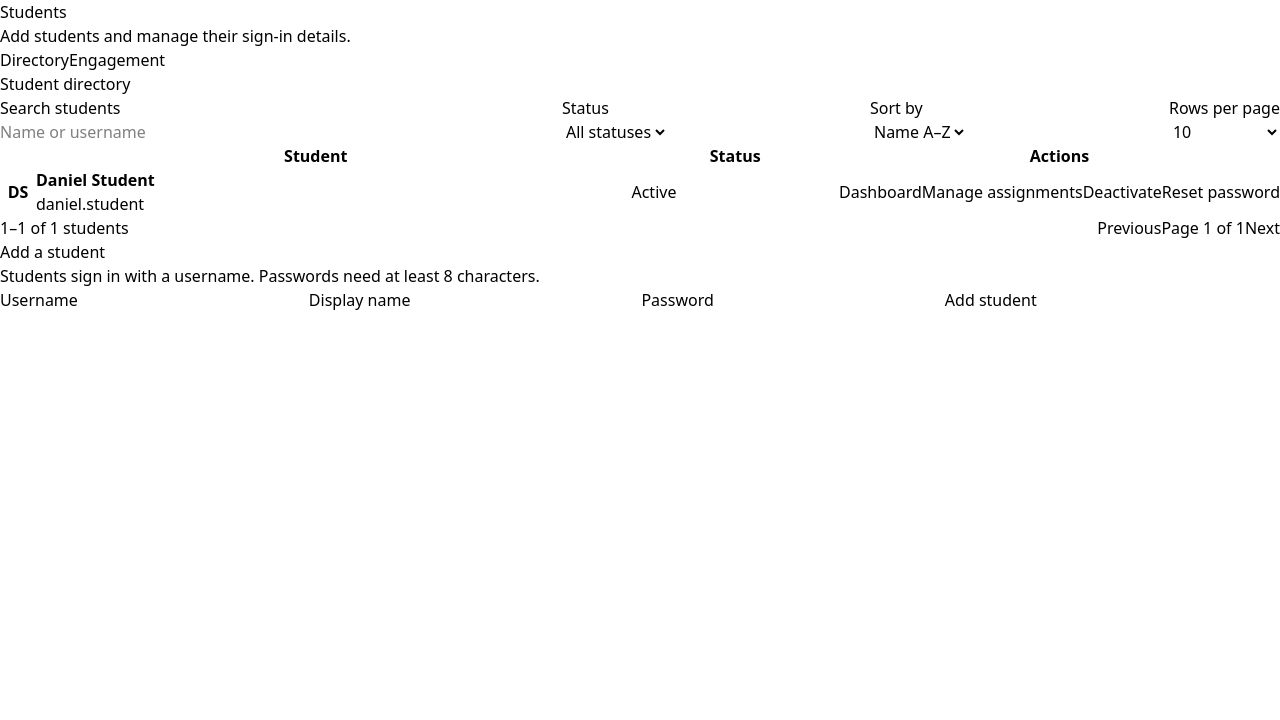
Test: Coach directory pages › confirms student account state change from active=true
Click the button "Deactivate" at coordinates (1122, 192), box [1083,180,1162,204]
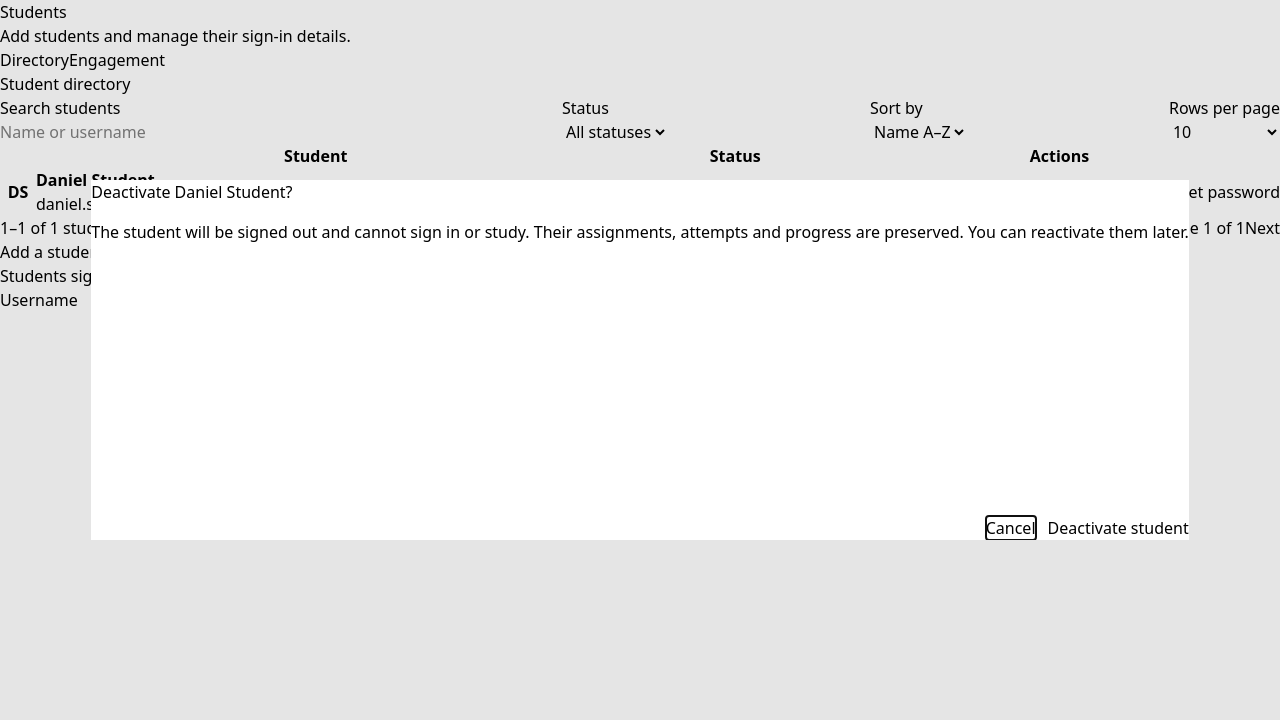
Click the button "Deactivate student" at coordinates (1118, 528), box [1048,516,1189,540]
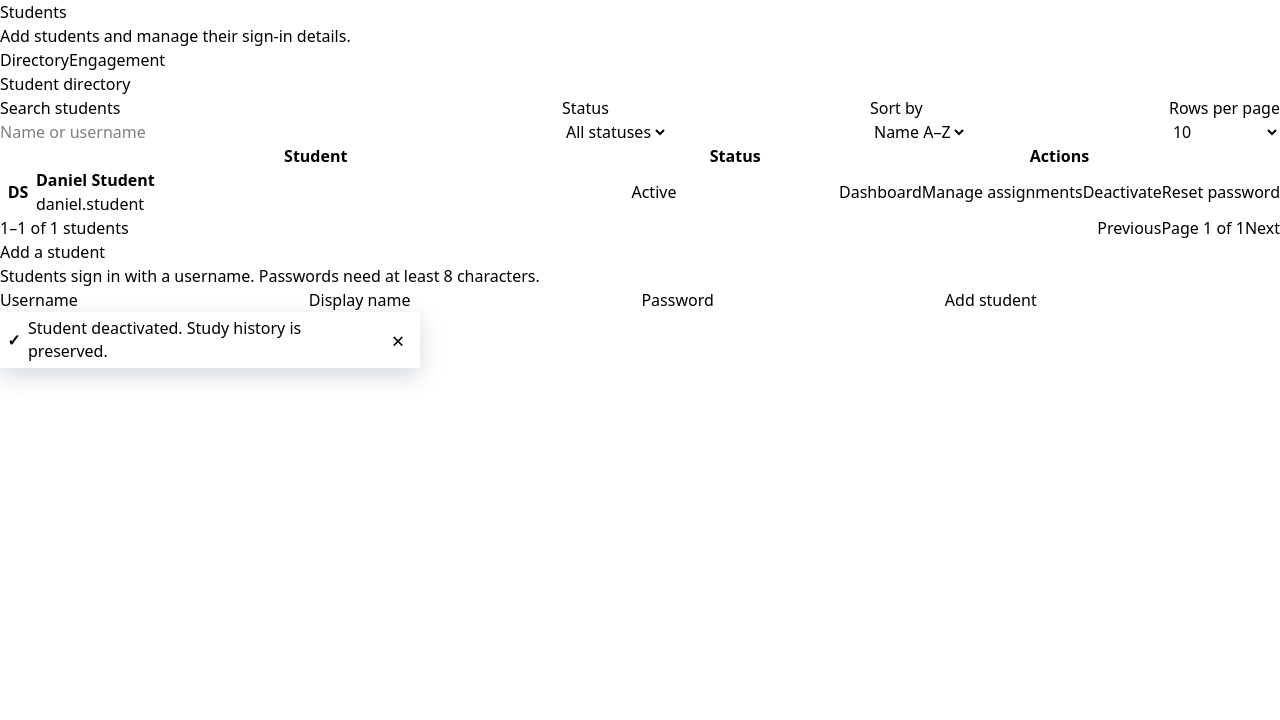
Result: the dialog is gone
